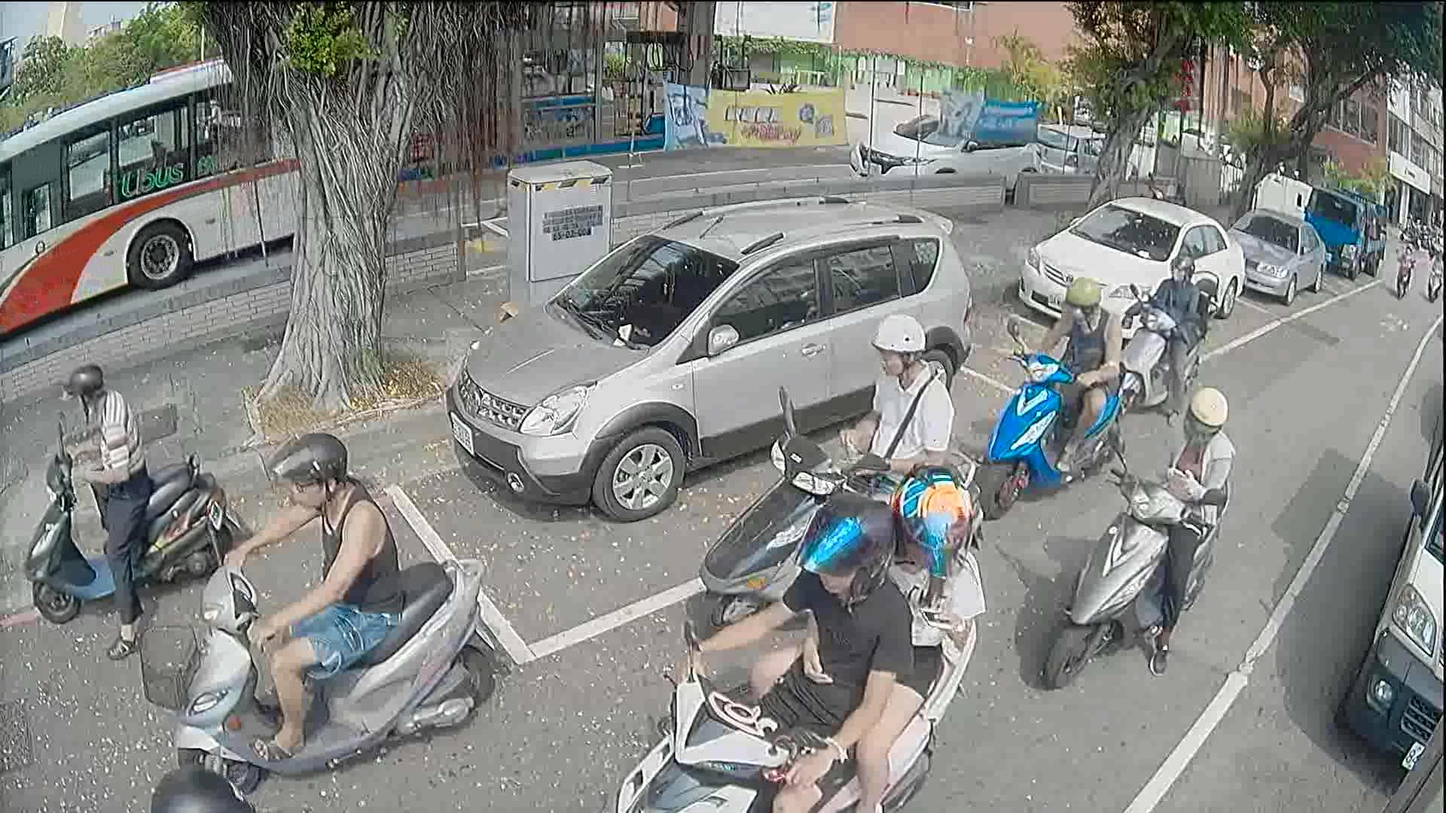person: (648, 488, 918, 812), (771, 461, 967, 812), (214, 423, 403, 769), (54, 362, 155, 657), (1130, 376, 1228, 676), (836, 309, 950, 508), (1022, 263, 1118, 474), (1145, 253, 1215, 422), (148, 747, 254, 812), (1429, 245, 1443, 277), (1399, 241, 1414, 261)
